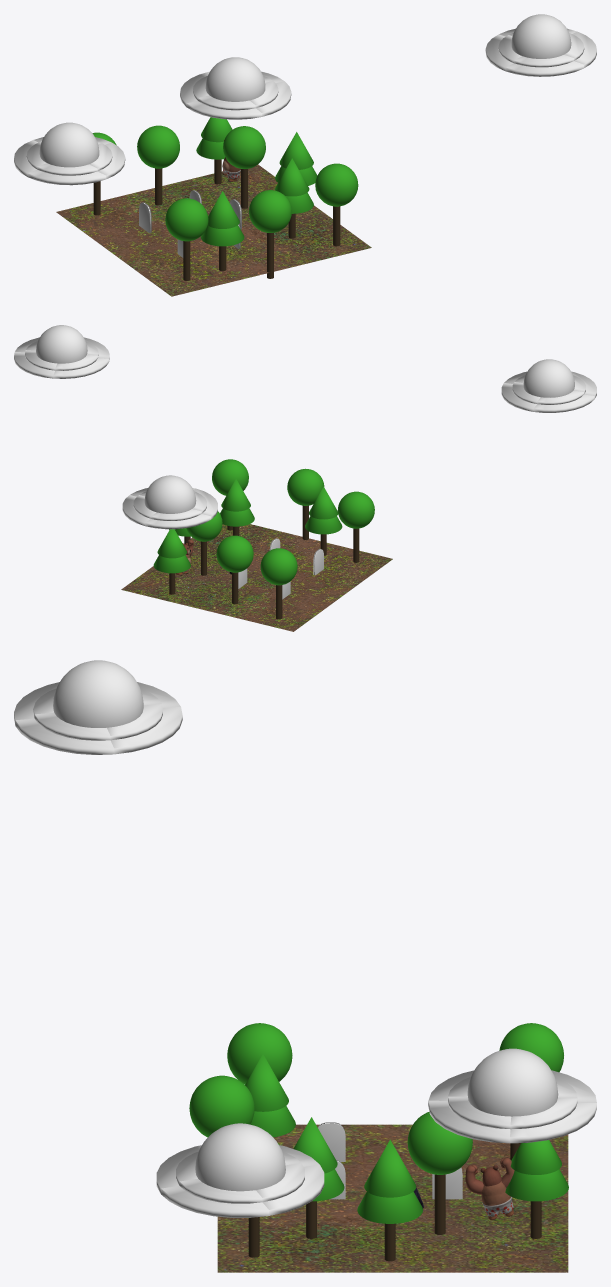
The model's file is SceneTest.glb.
3 renders of one model, top to bottom at view 1: azimuth 30°, elevation 25°; view 2: azimuth 150°, elevation 25°; view 3: azimuth 270°, elevation 25°, orthographic. The views are drawn at different scales.
Parts seen in each view (by area): view 1: Plane, Sphere.001, Sphere.003, Sphere.002, Tree2.001, Tree2.005, Tree2.004, Tree2, Tree2.002, Tree1.005, Tree1, Tree1.004 (+2 smaller); view 2: Plane, Sphere.002, Sphere.001, Sphere.003, Tree2.003, Tree2.001, Tree2, Tree2.004, Tree1.004, Tree1.005, Tree1, Tree2.005 (+1 smaller); view 3: Plane, Sphere.002, Sphere.001, Sphere.003, Tree1.003, Tree2.002, Tree1.004, Tree2.004, Tree2.001, Tree1.005, Tree1, Tree2.003.
Part boxes in pixels (<box>): Plane: <box>56,164,371,296</box>; Sphere.001: <box>485,14,596,76</box>; Sphere.003: <box>14,122,125,185</box>; Sphere.002: <box>180,57,291,119</box>; Tree2.001: <box>165,198,208,280</box>; Tree2.005: <box>315,163,358,246</box>; Tree2.004: <box>249,190,291,278</box>; Tree2: <box>137,125,179,205</box>; Tree2.002: <box>223,126,265,208</box>; Tree1.005: <box>201,191,244,271</box>; Tree1: <box>275,158,313,238</box>; Tree1.004: <box>196,117,232,184</box>; Plane: <box>121,524,392,631</box>; Sphere.002: <box>122,475,217,529</box>; Sphere.001: <box>14,325,109,378</box>; Sphere.003: <box>501,359,596,412</box>; Tree2.003: <box>260,548,297,619</box>; Tree2.001: <box>337,491,374,562</box>; Tree2: <box>216,535,253,604</box>; Tree2.004: <box>287,468,324,539</box>; Tree1.004: <box>153,529,190,594</box>; Tree1.005: <box>305,486,342,555</box>; Tree1: <box>220,479,254,535</box>; Tree2.005: <box>212,459,248,530</box>; Plane: <box>217,1124,568,1272</box>; Sphere.002: <box>428,1048,596,1143</box>; Sphere.001: <box>156,1123,324,1217</box>; Sphere.003: <box>14,660,182,754</box>; Tree1.003: <box>357,1139,422,1261</box>; Tree2.002: <box>407,1112,472,1234</box>; Tree1.004: <box>505,1140,568,1238</box>; Tree2.004: <box>189,1075,254,1137</box>; Tree2.001: <box>227,1023,292,1084</box>; Tree1.005: <box>245,1054,295,1137</box>; Tree1: <box>293,1117,344,1238</box>; Tree2.003: <box>499,1023,563,1072</box>.
Bounding box in the file's own units: 61.35 × 23.24 × 33.26.
Materials: 18 (8 with a texture image).
